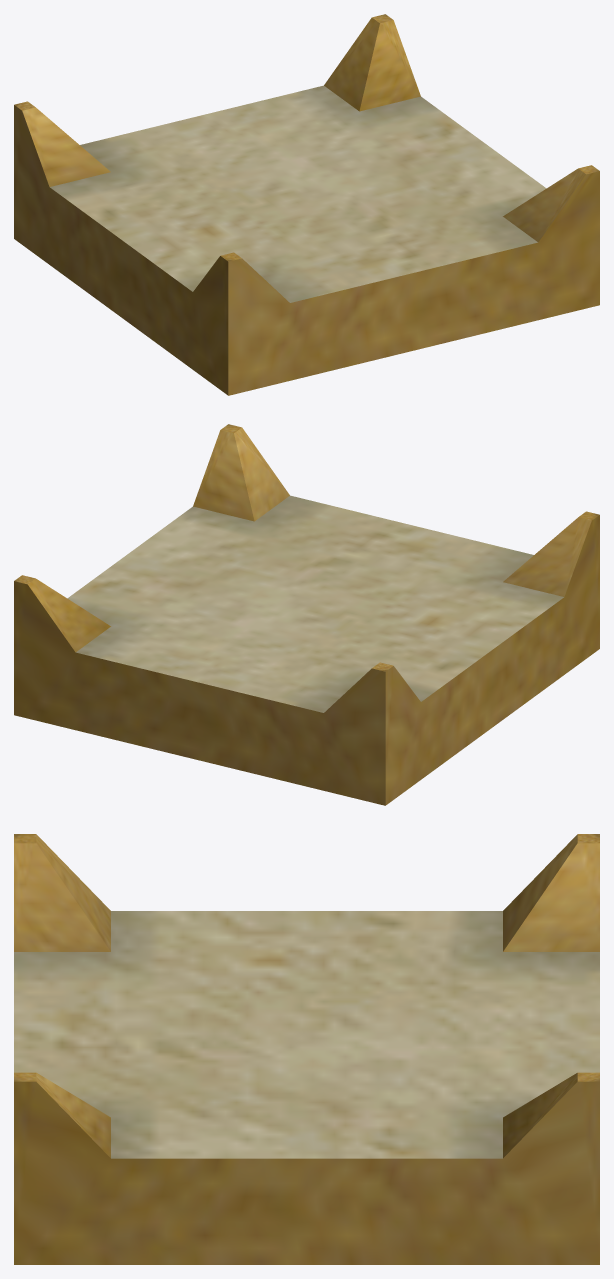
File: egy_tile_crossroads.obj
3 renders of one model, top to bottom at view 1: azimuth 30°, elevation 25°; view 2: azimuth 150°, elevation 25°; view 3: azimuth 270°, elevation 25°, orthographic. The views are drawn at different scales.
Parts seen in each view (by area): view 1: mid_; view 2: mid_; view 3: mid_.
Part boxes in pixels (x1,y1,x2,y2): mid_: (14,14,599,395); mid_: (14,424,599,805); mid_: (14,834,599,1264).
Size of the model in its own units: 1 by 0.345 by 1.
1 material, 1 textured.
